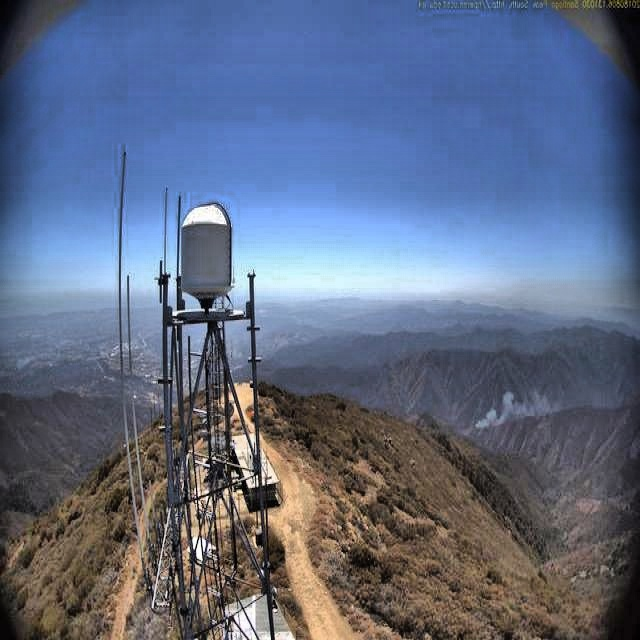smoke: (462, 371, 601, 438)
